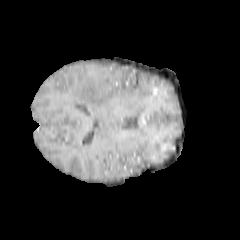glioma: (65, 76, 125, 111)
